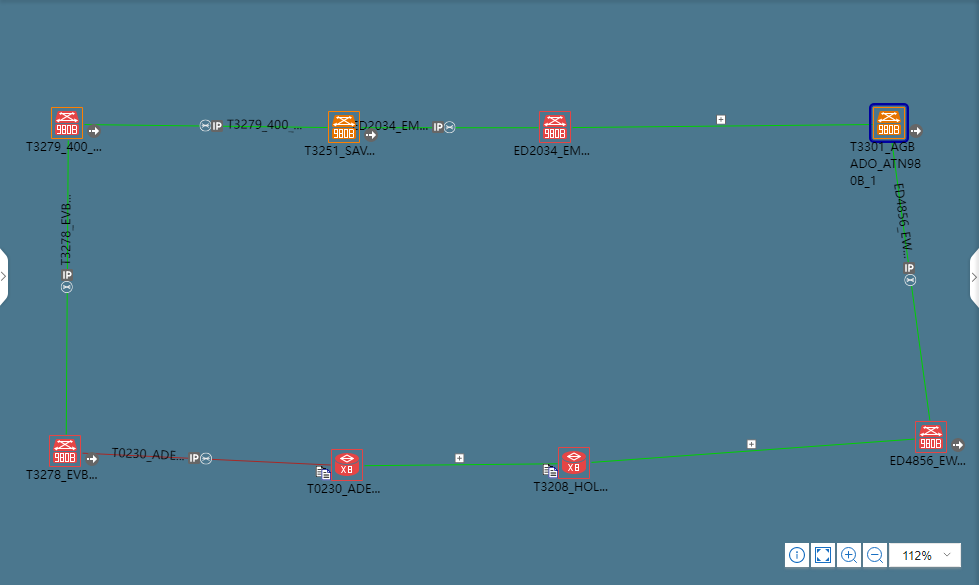ATN_Orange: (333, 112, 363, 140), (878, 112, 899, 141)
ATN_Red: (52, 436, 81, 471), (915, 424, 950, 452), (542, 112, 569, 140), (52, 112, 78, 141)
Link_Green: (890, 143, 930, 418), (590, 436, 910, 464), (358, 124, 537, 135), (64, 130, 75, 305), (572, 124, 642, 135), (286, 124, 324, 135)
Link_Red: (83, 449, 332, 471)
Router_Red: (333, 449, 363, 484), (560, 449, 587, 476)
